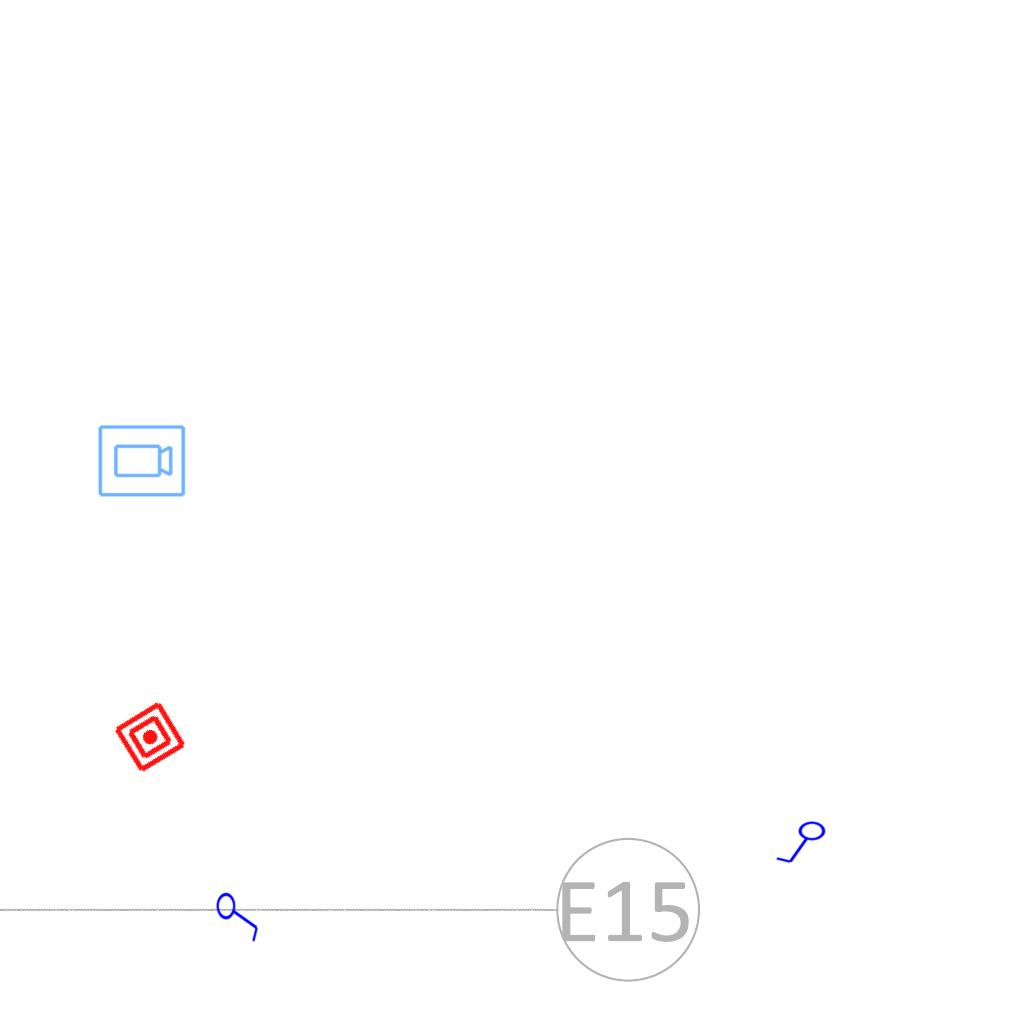Ausschalter: (775, 820, 831, 868), (215, 887, 263, 943)
KFO_Kamera_mit_Festobjektiv: (96, 423, 187, 500)
NAM-Nichtautomatischer_Melder: (111, 698, 189, 776)
